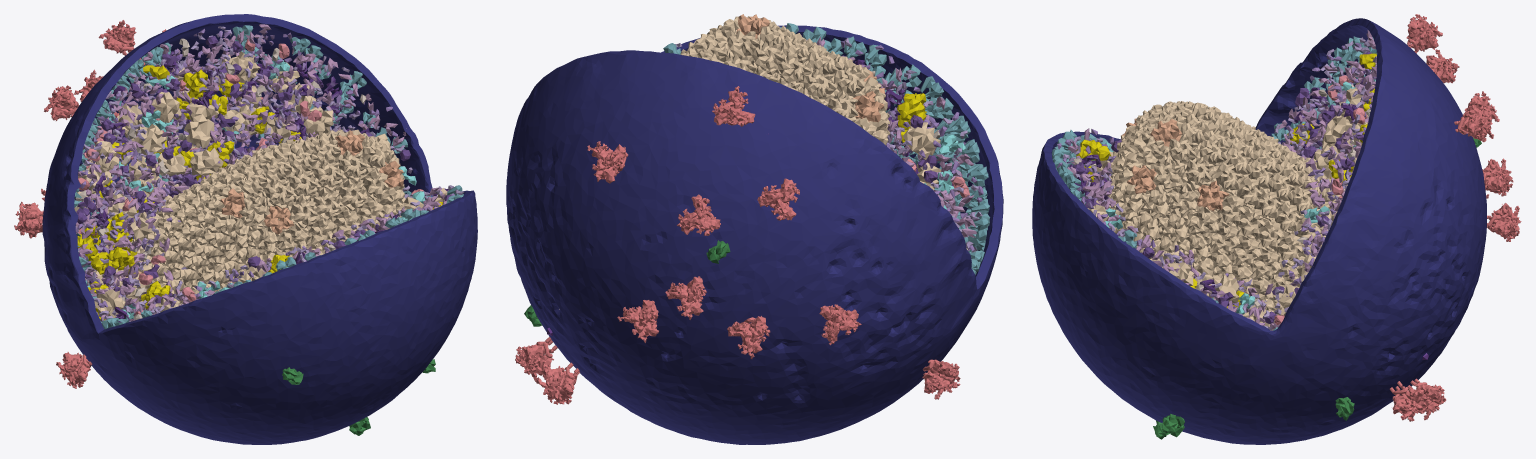
File: hiv-virus.glb
3 views of the same model, side by side, from view 1: azimuth 30°, elevation 25°; view 2: azimuth 150°, elevation 25°; view 3: azimuth 270°, elevation 25° (orthographic). The views are drawn at different scales.
Parts seen in each view (by area): view 1: HIVVirion_1.ply; view 2: HIVVirion_1.ply; view 3: HIVVirion_1.ply.
Boxes of the visible parts, x1,y1,x2,y2 form: HIVVirion_1.ply: (14,14,477,444); HIVVirion_1.ply: (506,14,1003,444); HIVVirion_1.ply: (1032,14,1521,444).
Size of the model in its own units: 7.41 by 6.79 by 7.95.
